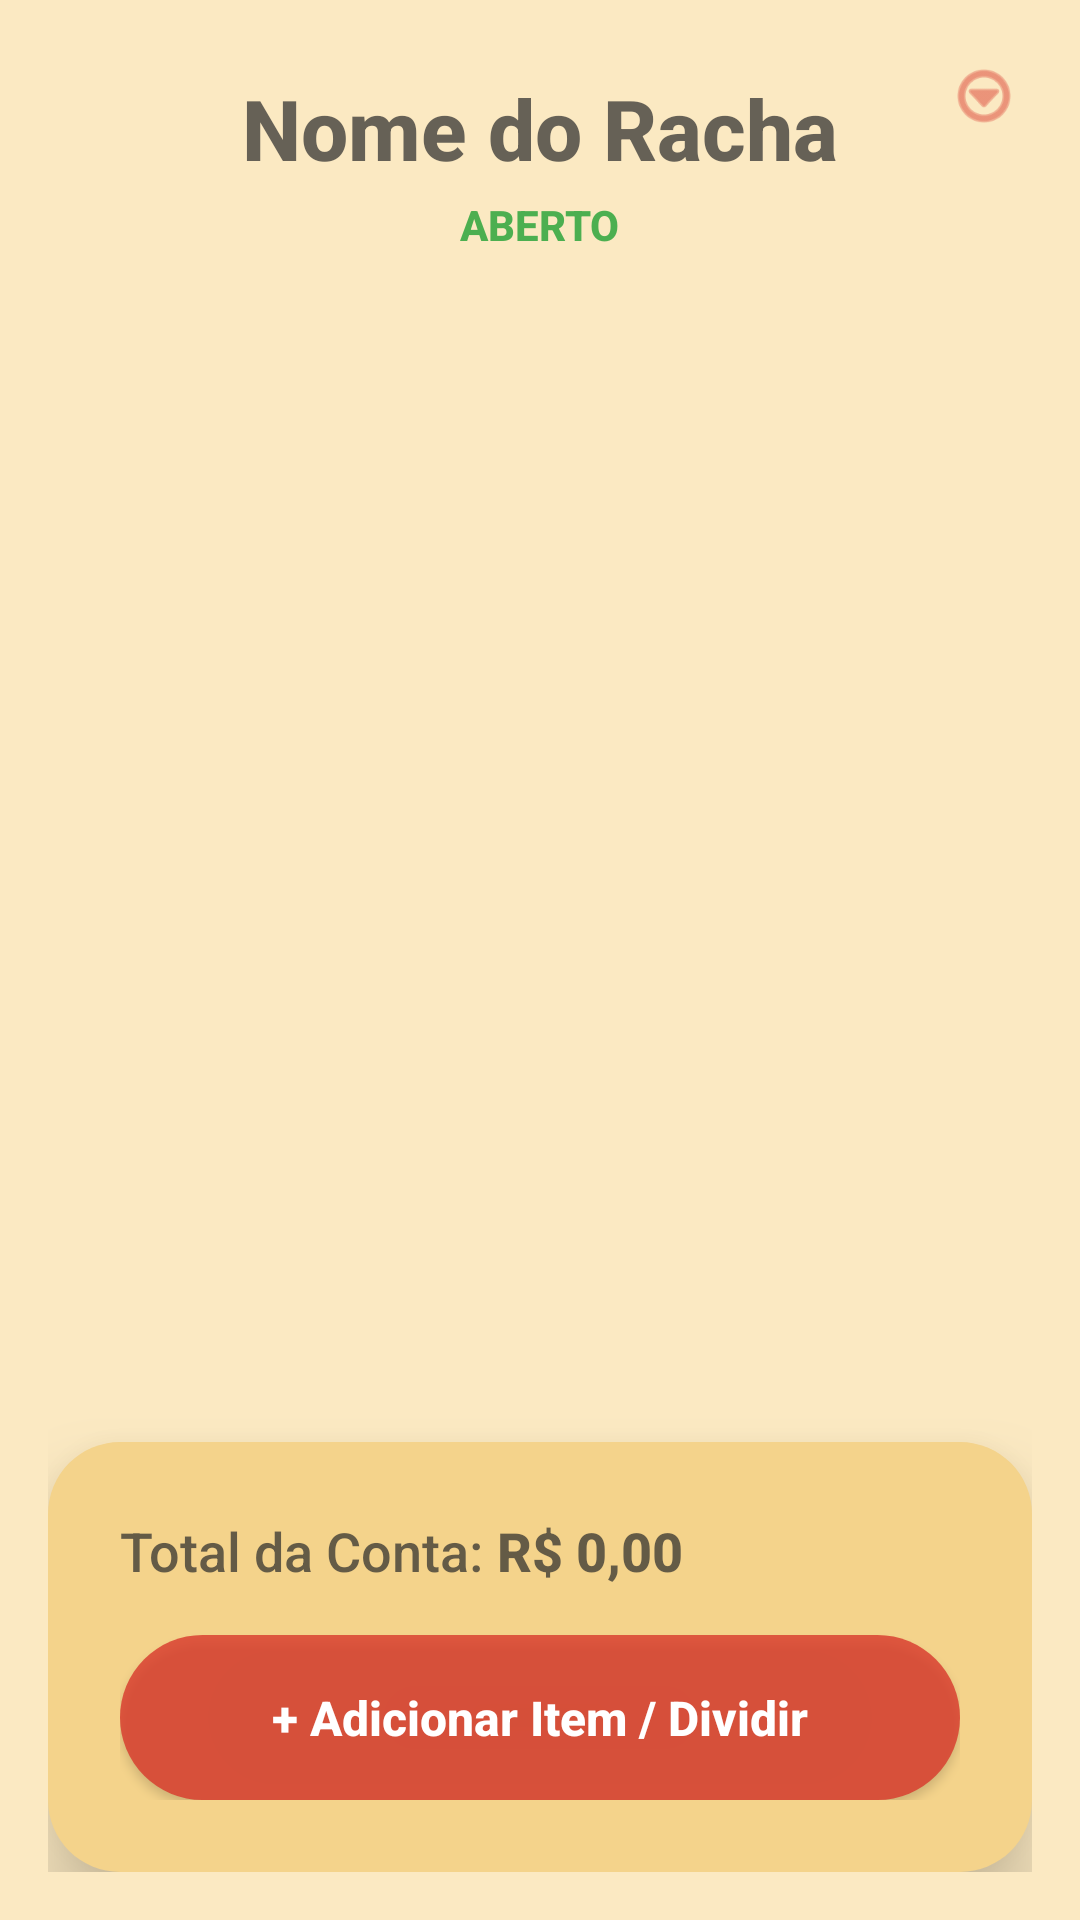

Icon bounding boxes for this 1080x1920 phone screenshot, format (left=x1, top=y1, right=x2, bottom=y2):
more: (left=957, top=70, right=1011, bottom=122)
